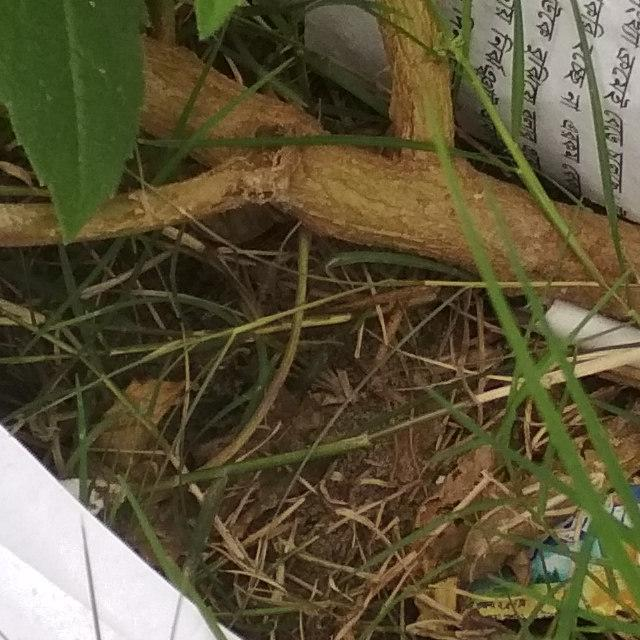paper: (0, 53, 598, 640), (33, 0, 640, 492)
